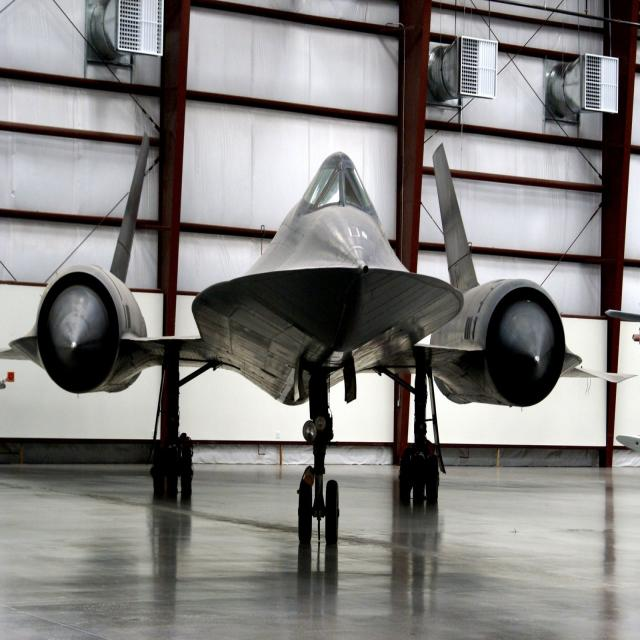MIL_Plane: (1, 124, 638, 536)
